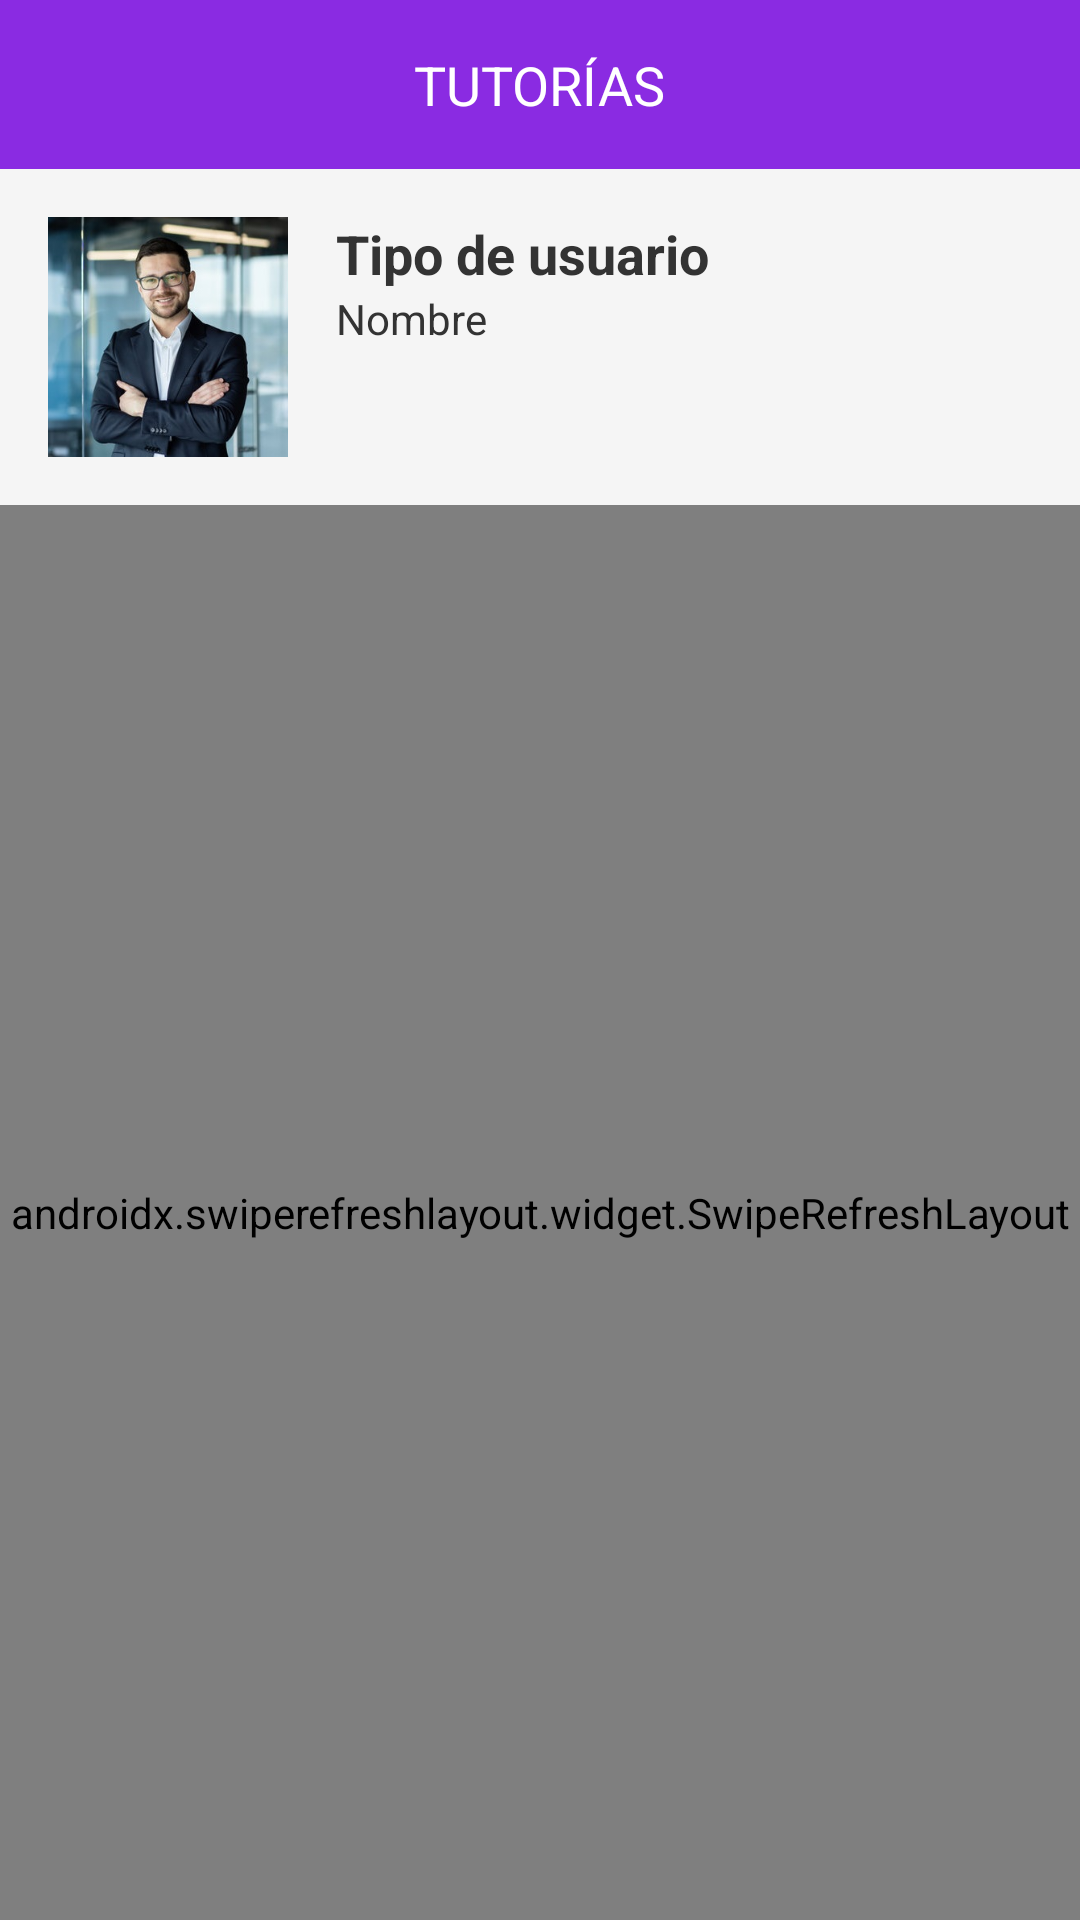

Icons on this 1080×1920 Android screen, each with its box as (x1, y1, x2, y2):
Foto del usuario: (48, 217, 288, 457)
